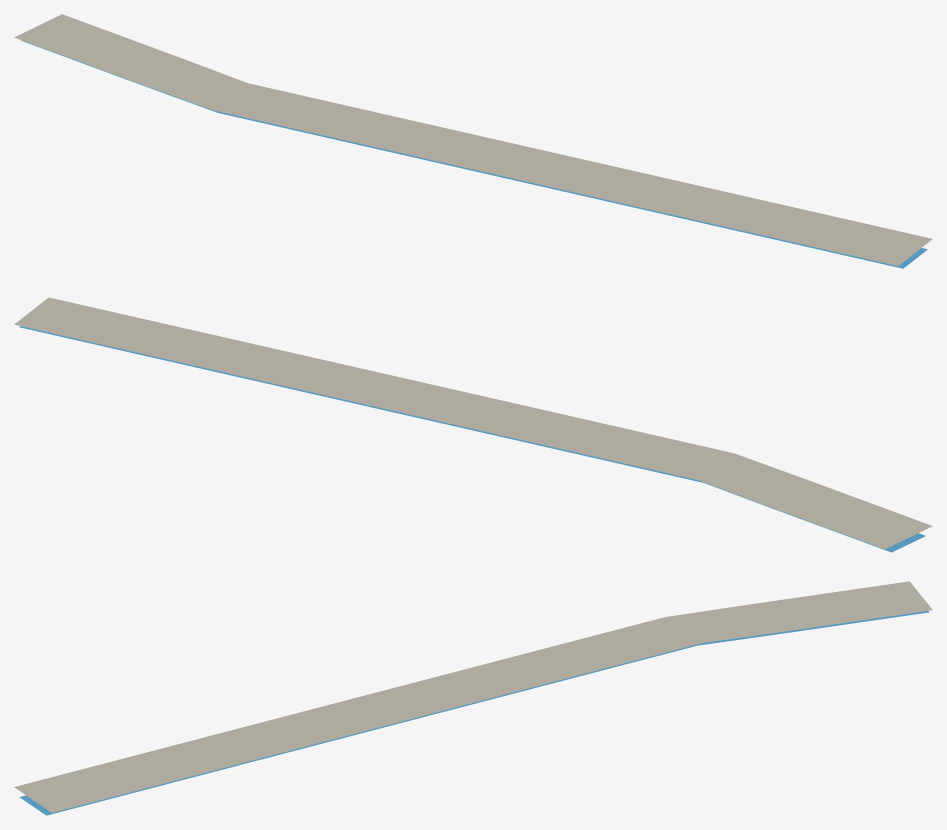
The picture shows the model from 3 angles, top to bottom: view 1: azimuth 30°, elevation 25°; view 2: azimuth 210°, elevation 25°; view 3: azimuth 270°, elevation 25°; orthographic projection.
Parts seen in each view (by area): view 1: estructura_terreno, estructura_agua; view 2: estructura_terreno, estructura_agua; view 3: estructura_terreno, estructura_agua.
Part boxes in pixels (left/top/right/bottom): estructura_terreno: left=14, top=14, right=932, bottom=265; estructura_agua: left=21, top=40, right=927, bottom=268; estructura_terreno: left=14, top=297, right=932, bottom=549; estructura_agua: left=19, top=326, right=925, bottom=552; estructura_terreno: left=14, top=581, right=932, bottom=812; estructura_agua: left=19, top=611, right=928, bottom=815.
Size of the model in its own units: 31.97 by 0.41 by 53.59.
